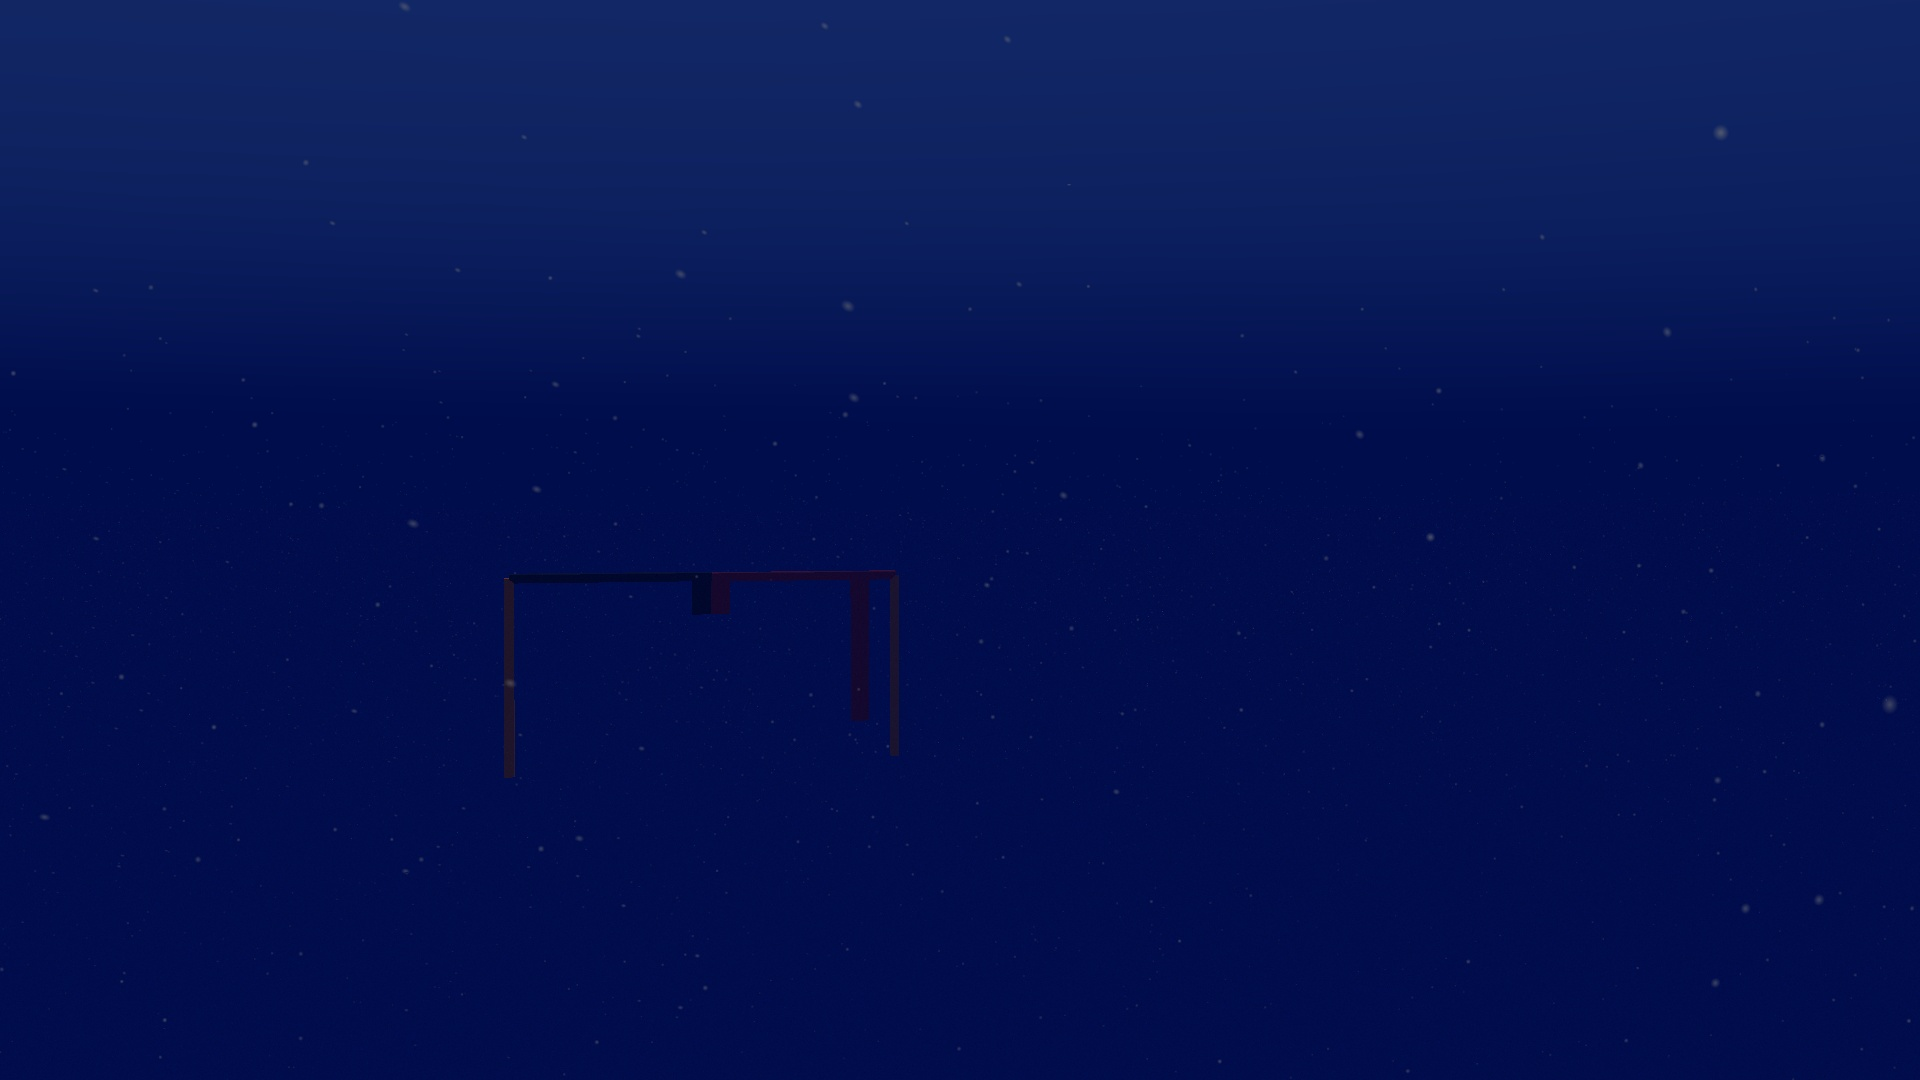Gate: (497, 566, 909, 785)
